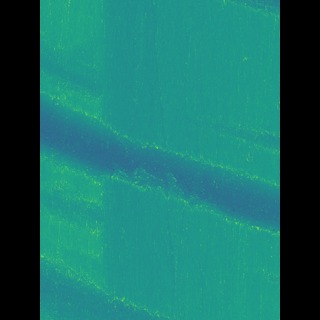Loch: (68, 35, 250, 242), (69, 250, 168, 320)
